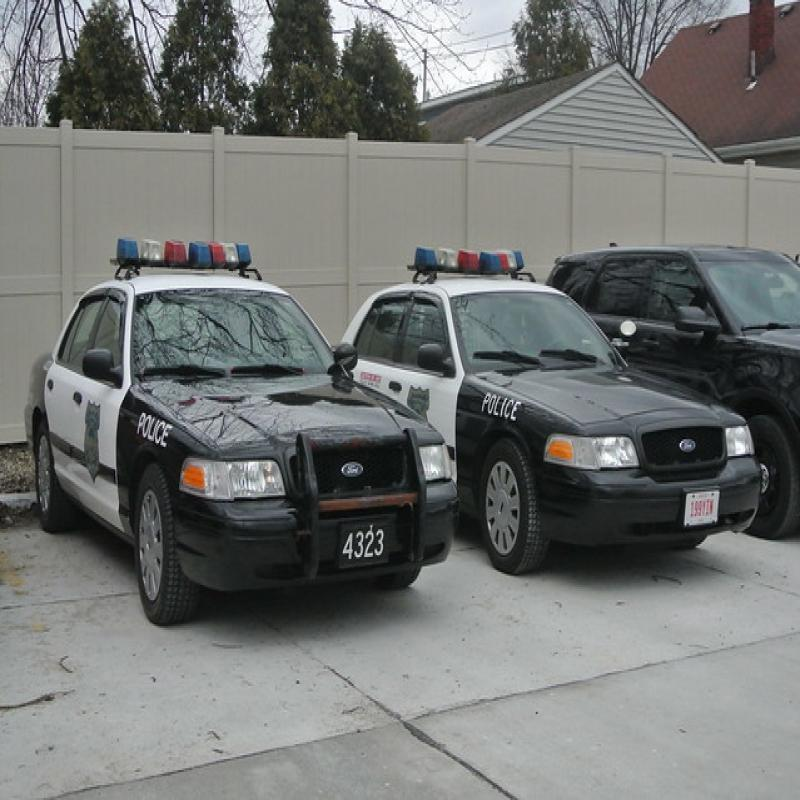AmbulanceSiren: (407, 236, 528, 298)
